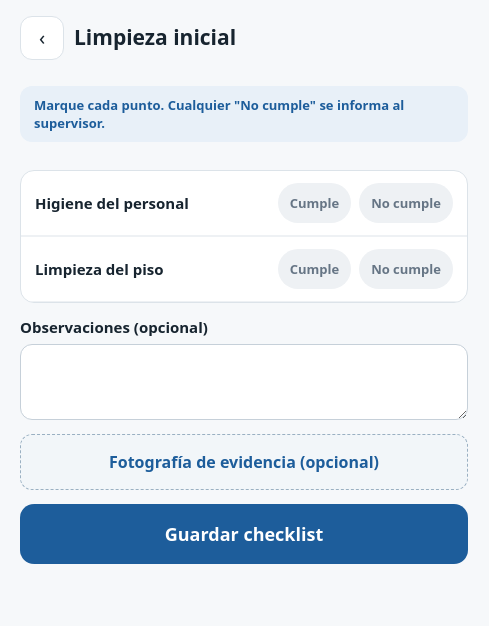
Test: limpieza › no guarda con puntos sin marcar y dice cuántos faltan
Step 1. Click the button "Guardar checklist" → [244, 534], box [20,504,468,564]
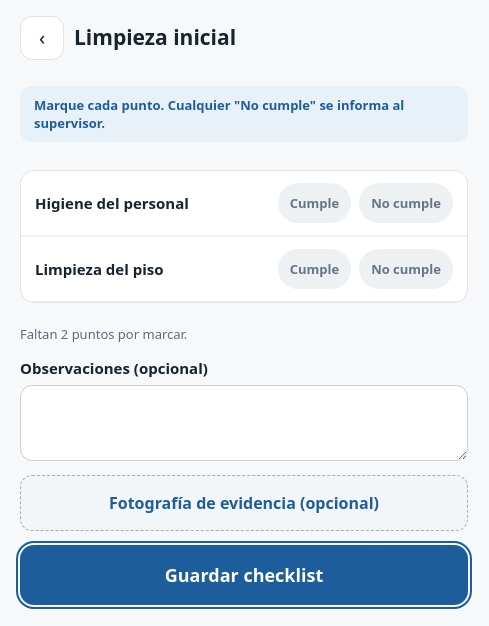
Check: the text "Faltan 2 puntos por marcar." is shown, box [20,325,187,343]
